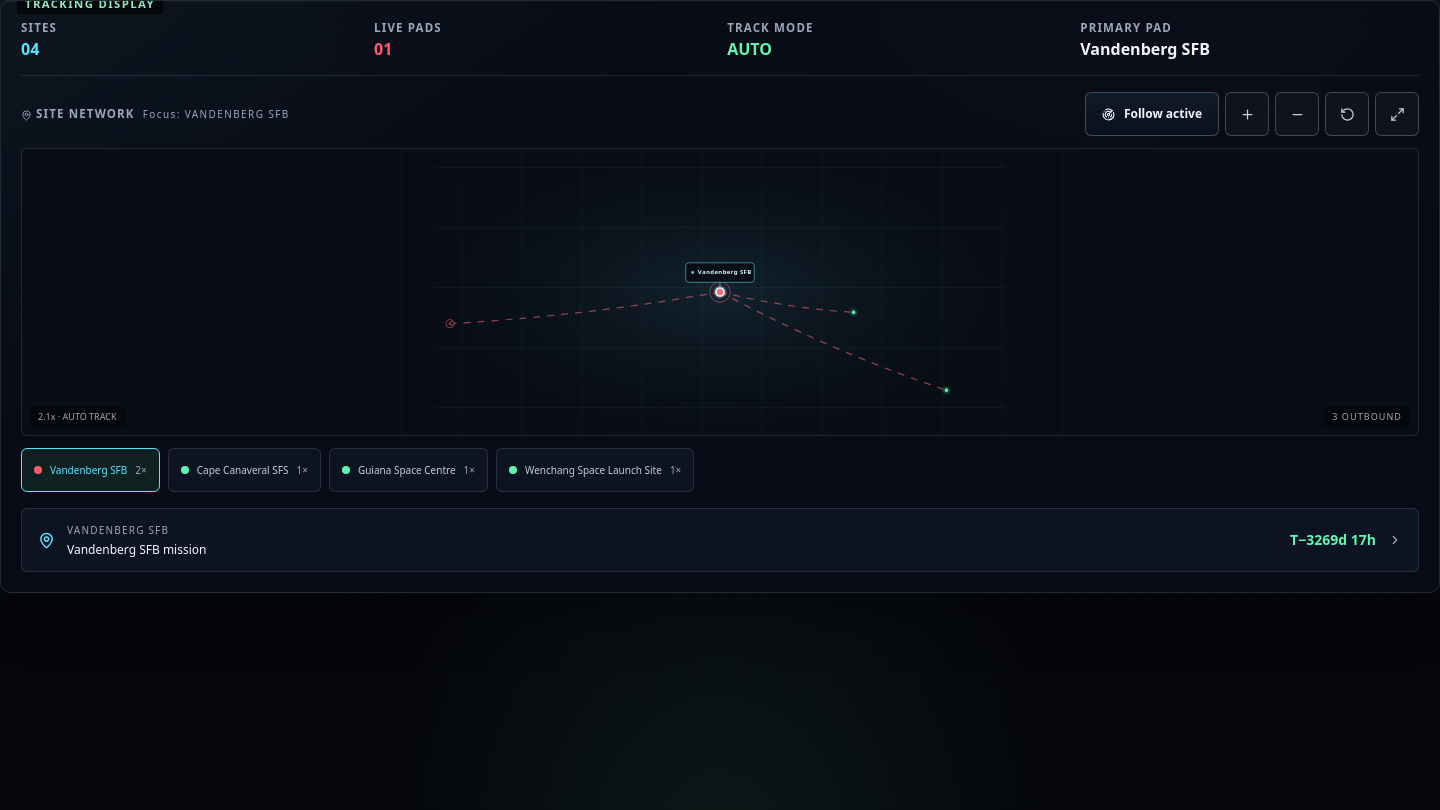
Test: LaunchMap › groups duplicate locations and terminates offscreen routes intentionally
Expected: the text "04" is shown, [21, 38, 39, 60]
Click the button named "Expand map" at (1397, 114), box [1375, 92, 1419, 136]
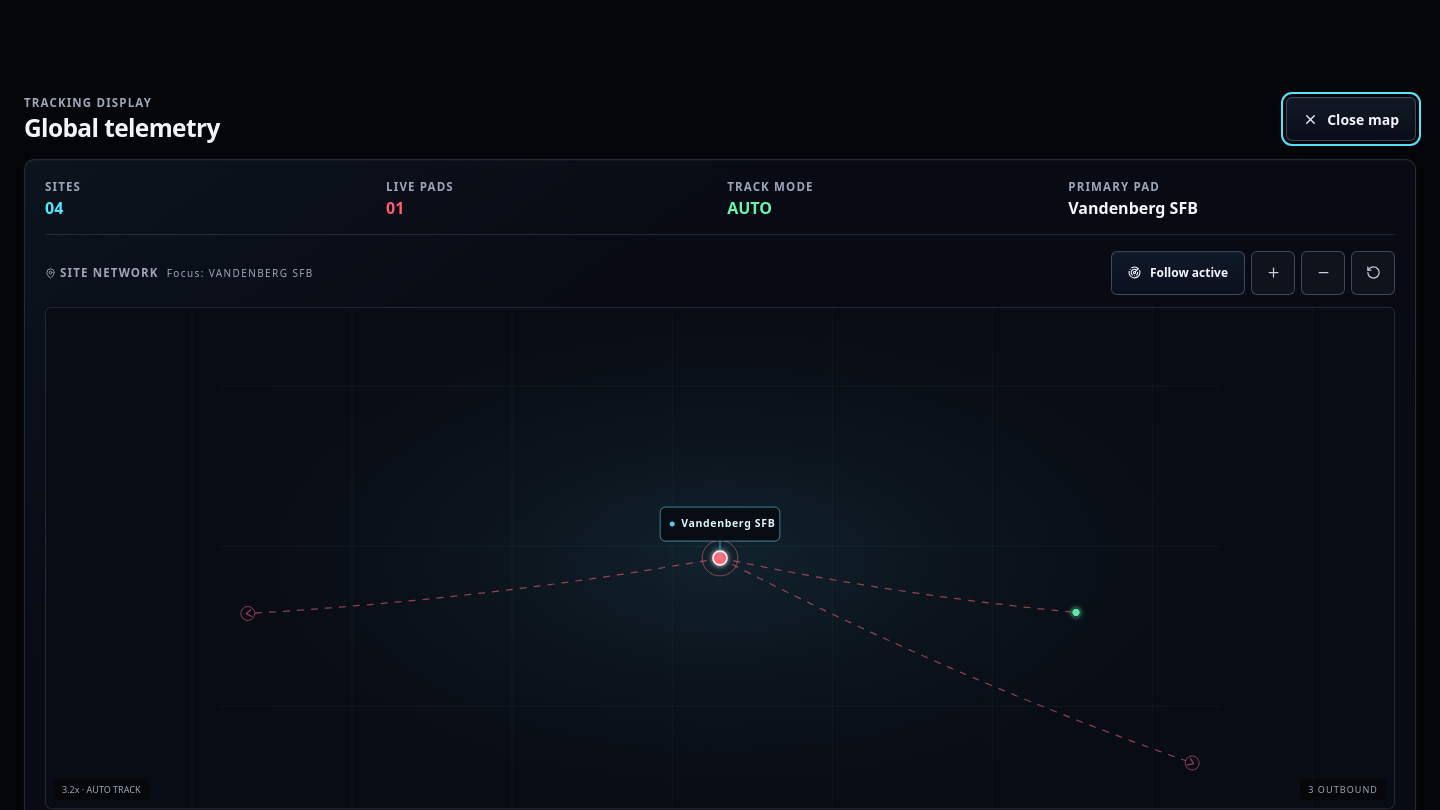
Expected: the icon "Vandenberg SFB" is shown, [46, 308, 1394, 808]
Expected: the dialog named "Expanded mission map" is shown
Click the button named "Zoom in" at (1273, 273), box [1251, 251, 1295, 295]
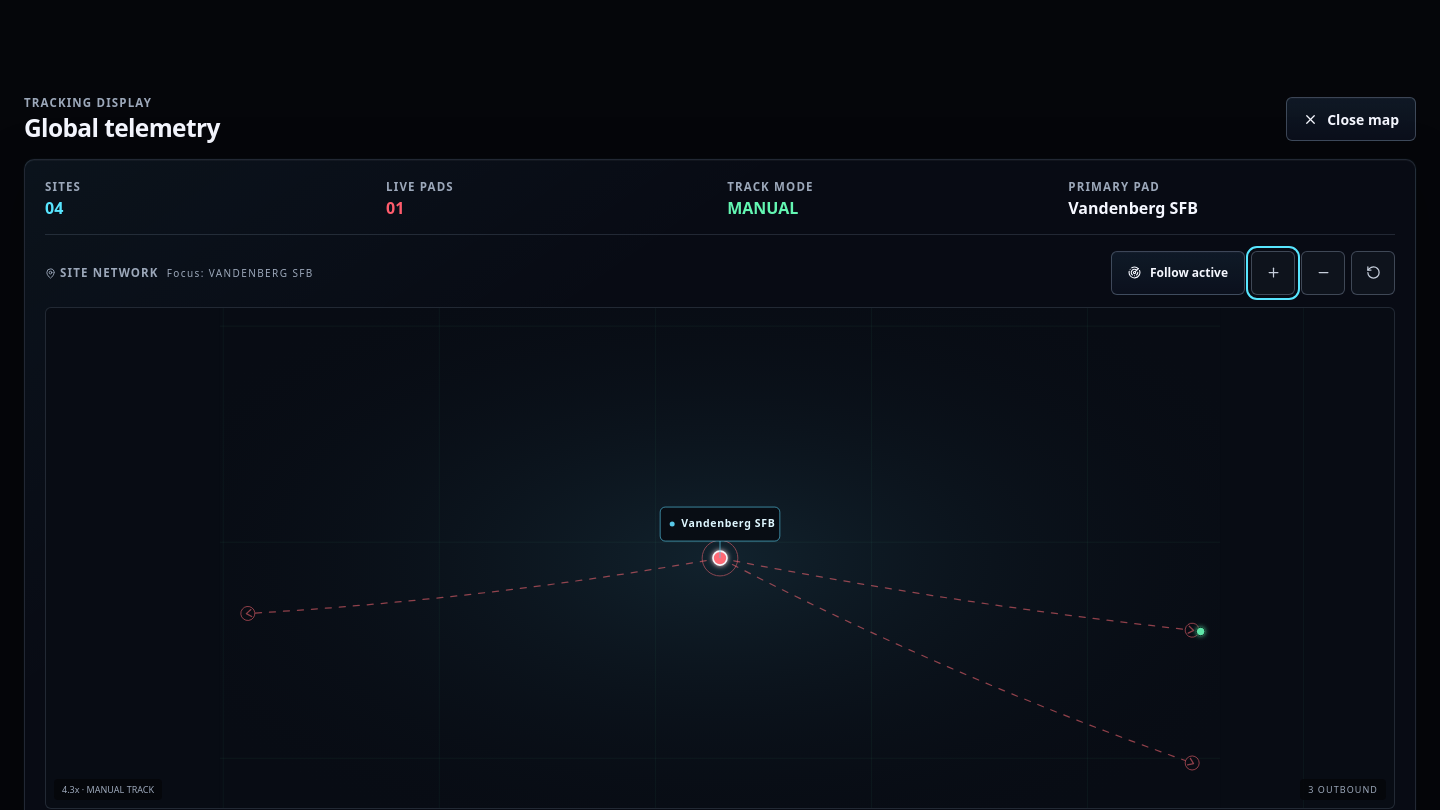
Expected: the icon "Vandenberg SFB" is shown, [46, 308, 1394, 808]
Expected: the text "4.3x · MANUAL TRACK" is shown, [54, 779, 162, 800]
